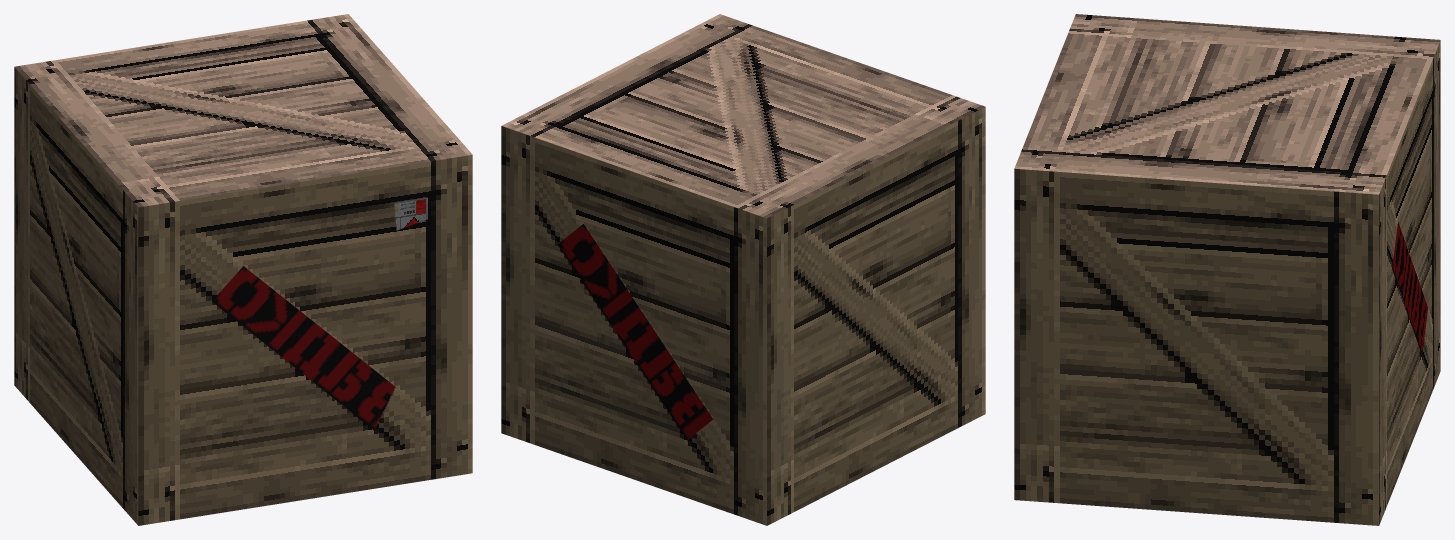
File: primary_081.glb
3 renders of one model, left to right at view 1: azimuth 30°, elevation 25°; view 2: azimuth 150°, elevation 25°; view 3: azimuth 270°, elevation 25°, orthographic. The views are drawn at different scales.
Visible parts, largest first — view 1: Object; view 2: Object; view 3: Object.
Part boxes in pixels (<box>): Object: <box>14,14,472,525</box>; Object: <box>501,14,985,525</box>; Object: <box>1014,14,1440,525</box>.
Size of the model in its own units: 1.31 by 1.12 by 1.31.
7 materials, 7 textured.
